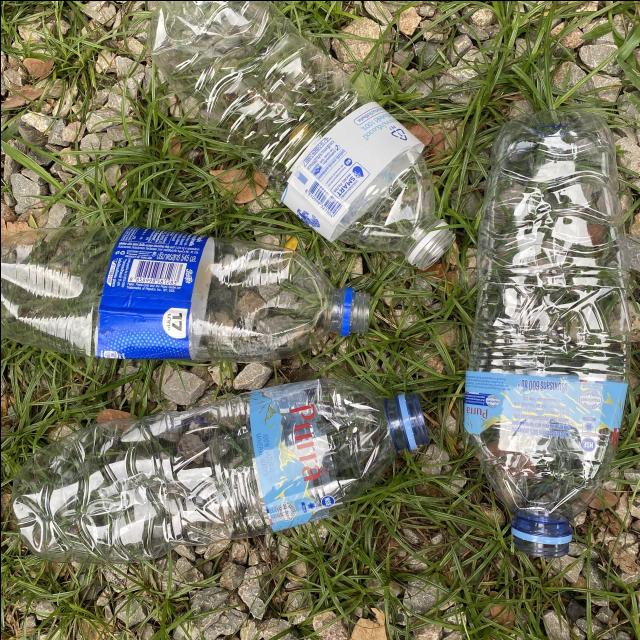plastik: (147, 0, 454, 266), (12, 379, 427, 562), (463, 109, 629, 557), (0, 225, 368, 362)
